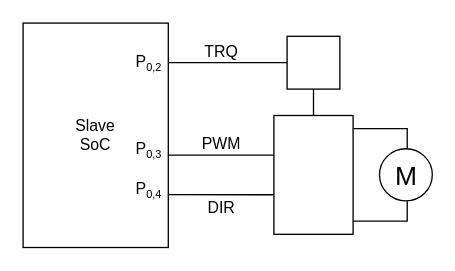
Some shapes in this 455 by 271 pixel diagram are drawn without their labels. The shapes that lost their labels are listed below. From the top down, each one's centre as x and y in pixels, then its label:
At (x=313, y=62): "TS".
At (x=313, y=174): "EE SM".
